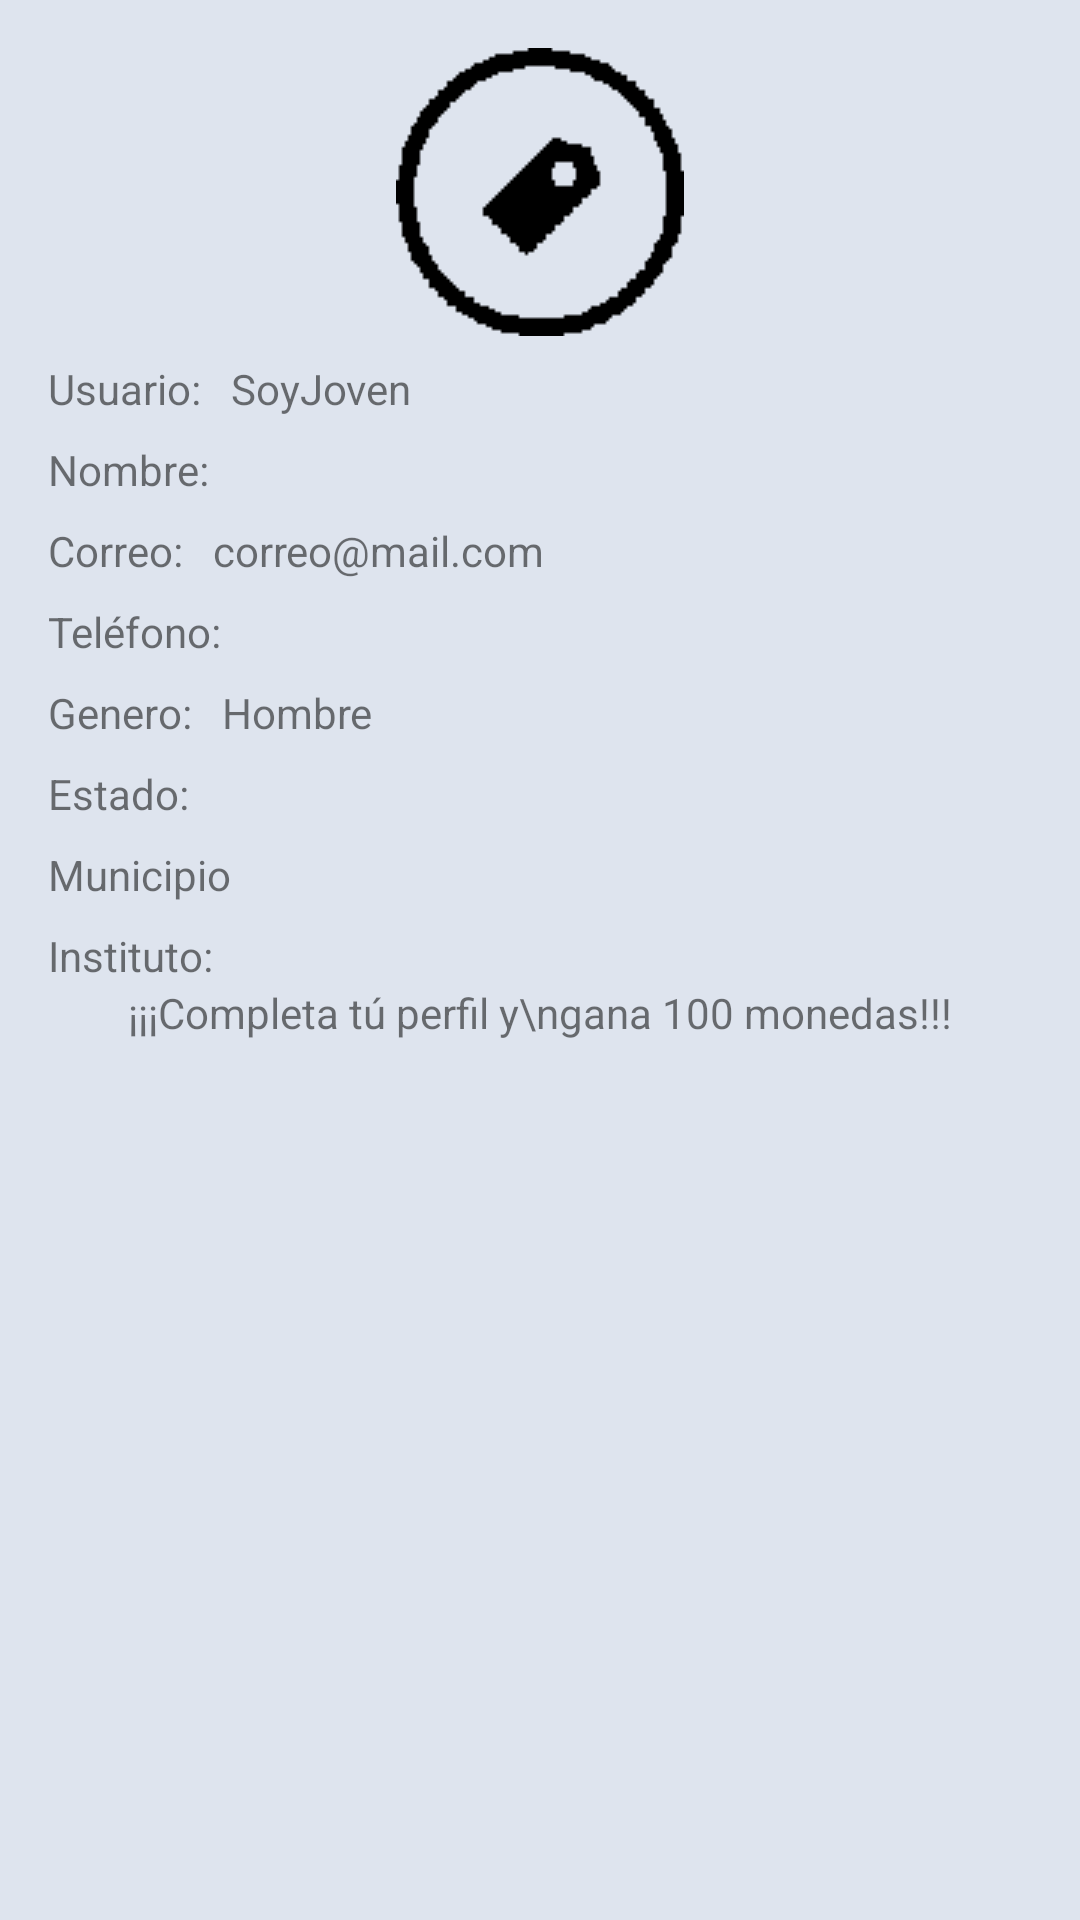

Where icons sit on this 1080×1920 app screen, as rect(x1, y1, x2, y2):
recompensa: rect(396, 48, 684, 336)
